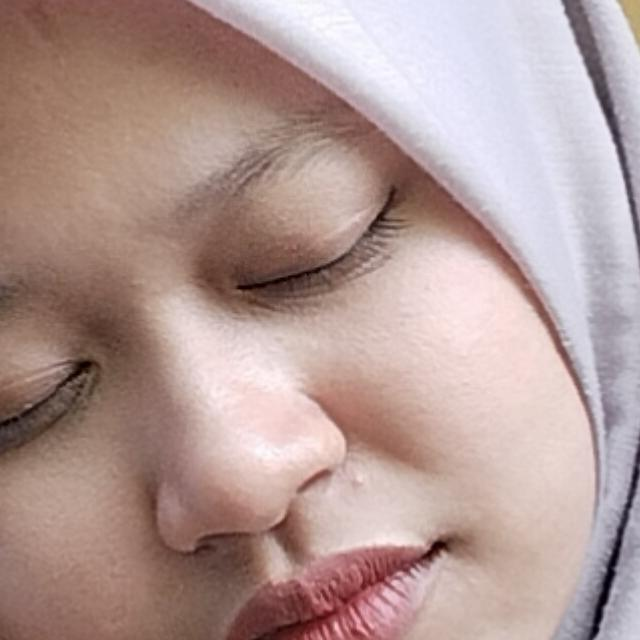tidur: (0, 308, 526, 640)
